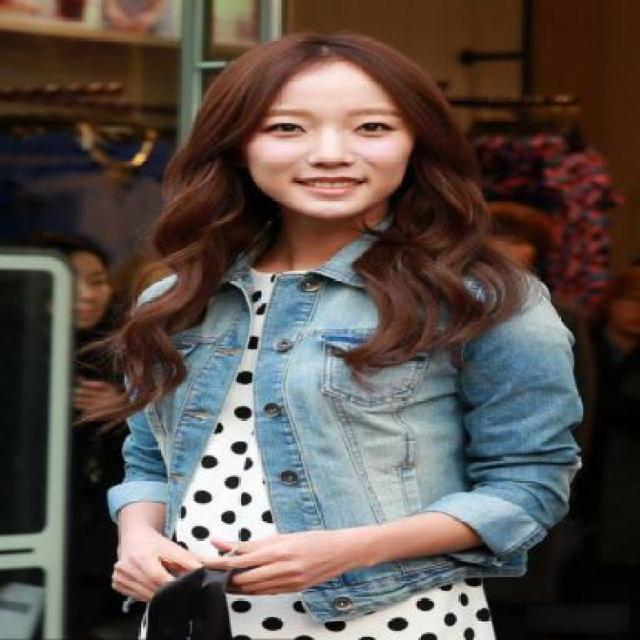Person: (99, 1, 601, 639)
